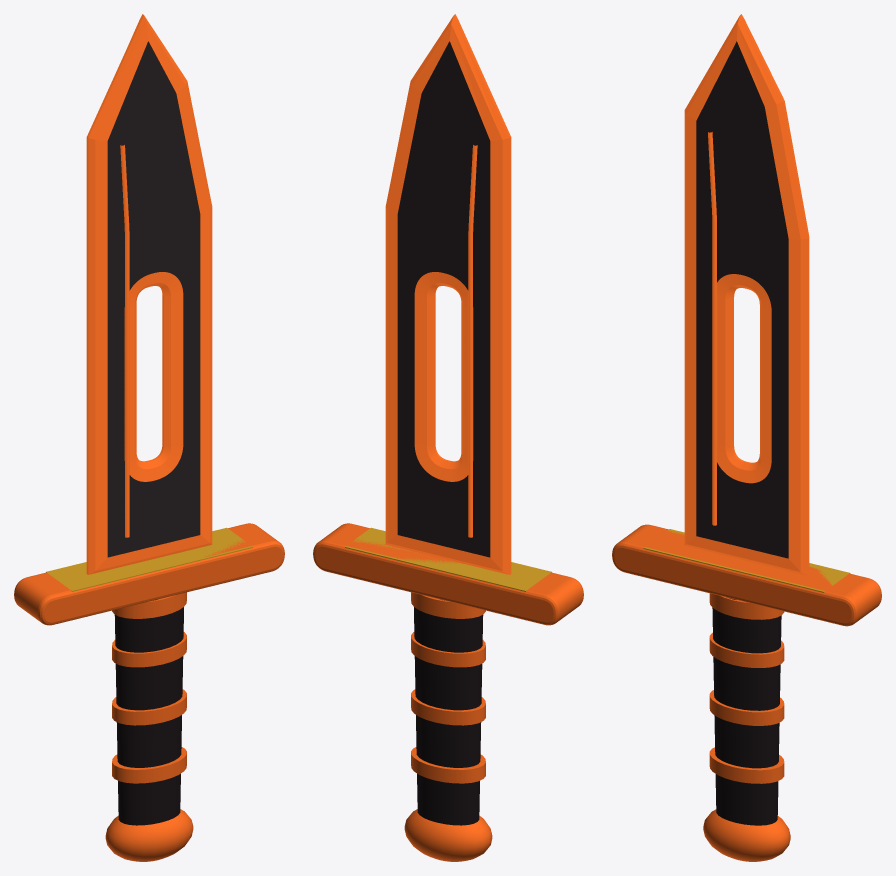
The model's file is 21_Rare_Ember_Edge.glb.
3 views of the same model, side by side, from view 1: azimuth 30°, elevation 25°; view 2: azimuth 150°, elevation 25°; view 3: azimuth 330°, elevation 25° (orthographic).
Visible parts, largest first — view 1: blade_1, handle_2, guard_0, guard_trim_10, pommel_7, blade_inlay_9, handle_band_5, handle_band_4, handle_band_3, ferrule_6; view 2: blade_1, handle_2, guard_0, pommel_7, guard_trim_10, blade_inlay_8, handle_band_5, handle_band_4, handle_band_3, ferrule_6; view 3: blade_1, guard_0, handle_2, pommel_7, blade_inlay_9, handle_band_5, handle_band_4, handle_band_3, ferrule_6, guard_trim_10.
Part boxes in pixels (x1,y1,x2,y2): blade_1: [86, 14, 212, 574]; handle_2: [114, 599, 183, 825]; guard_0: [14, 523, 284, 625]; guard_trim_10: [46, 527, 252, 591]; pommel_7: [105, 809, 193, 861]; blade_inlay_9: [120, 145, 129, 537]; handle_band_5: [112, 747, 186, 783]; handle_band_4: [112, 689, 186, 725]; handle_band_3: [112, 632, 186, 667]; ferrule_6: [112, 592, 186, 618]; blade_1: [385, 14, 511, 574]; handle_2: [414, 599, 483, 825]; guard_0: [313, 523, 583, 625]; pommel_7: [404, 809, 492, 861]; guard_trim_10: [345, 527, 551, 591]; blade_inlay_8: [468, 145, 477, 537]; handle_band_5: [411, 747, 485, 783]; handle_band_4: [411, 689, 485, 725]; handle_band_3: [411, 632, 485, 667]; ferrule_6: [411, 592, 485, 618]; blade_1: [684, 14, 809, 575]; guard_0: [612, 524, 881, 626]; handle_2: [712, 597, 781, 825]; pommel_7: [703, 809, 790, 861]; blade_inlay_9: [708, 132, 717, 525]; handle_band_5: [709, 747, 784, 783]; handle_band_4: [709, 690, 784, 725]; handle_band_3: [709, 632, 784, 667]; ferrule_6: [709, 593, 784, 619]; guard_trim_10: [643, 529, 850, 592].
Bounding box in the file's own units: 0.1885 × 0.6182 × 0.0443.
8 materials, 8 textured.
